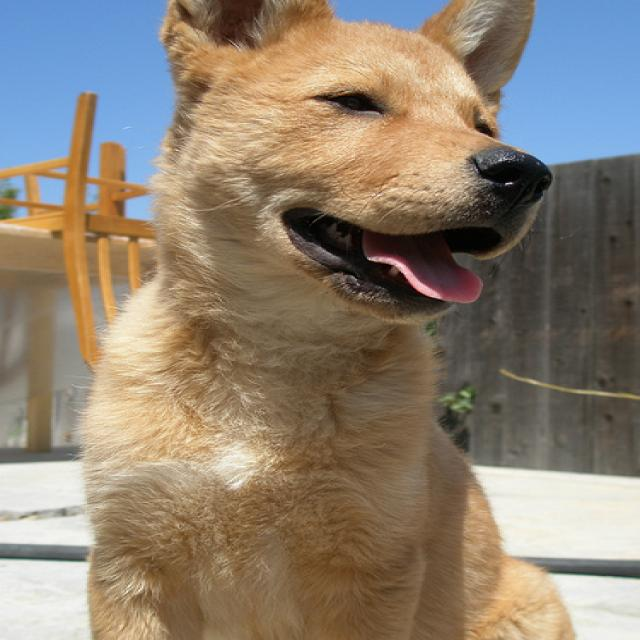dog-shiba_inu: (61, 1, 575, 637)
